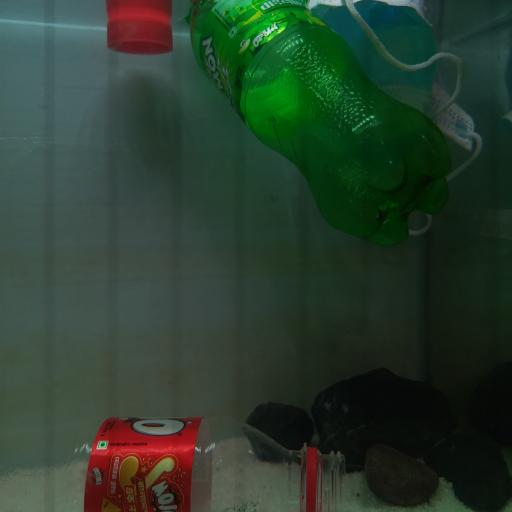bottle_cap: (107, 18, 174, 54)
mask: (305, 2, 485, 238)
plastic_bottle: (191, 0, 453, 247), (0, 416, 345, 512)
